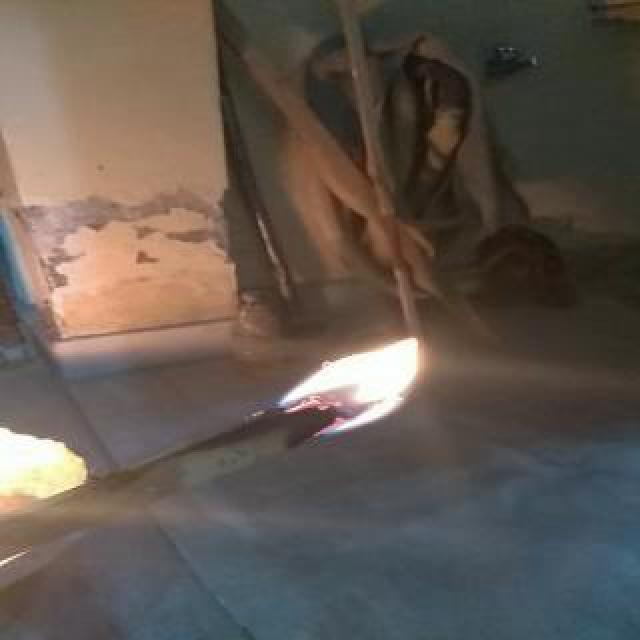zfire: (218, 310, 456, 450)
